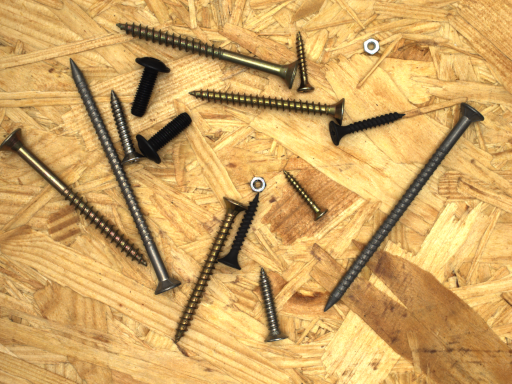screw_long: (295, 84, 504, 339), (41, 32, 199, 313)
